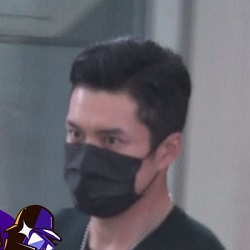mask: (60, 135, 150, 218)
